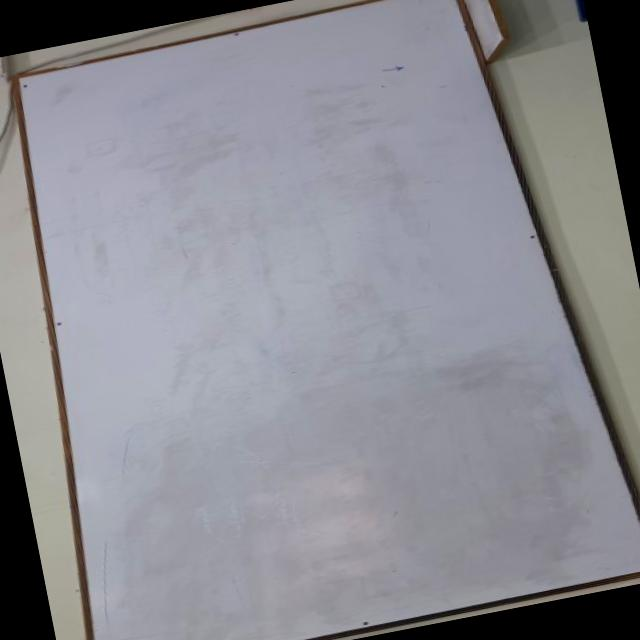White-board: (13, 0, 640, 640)
